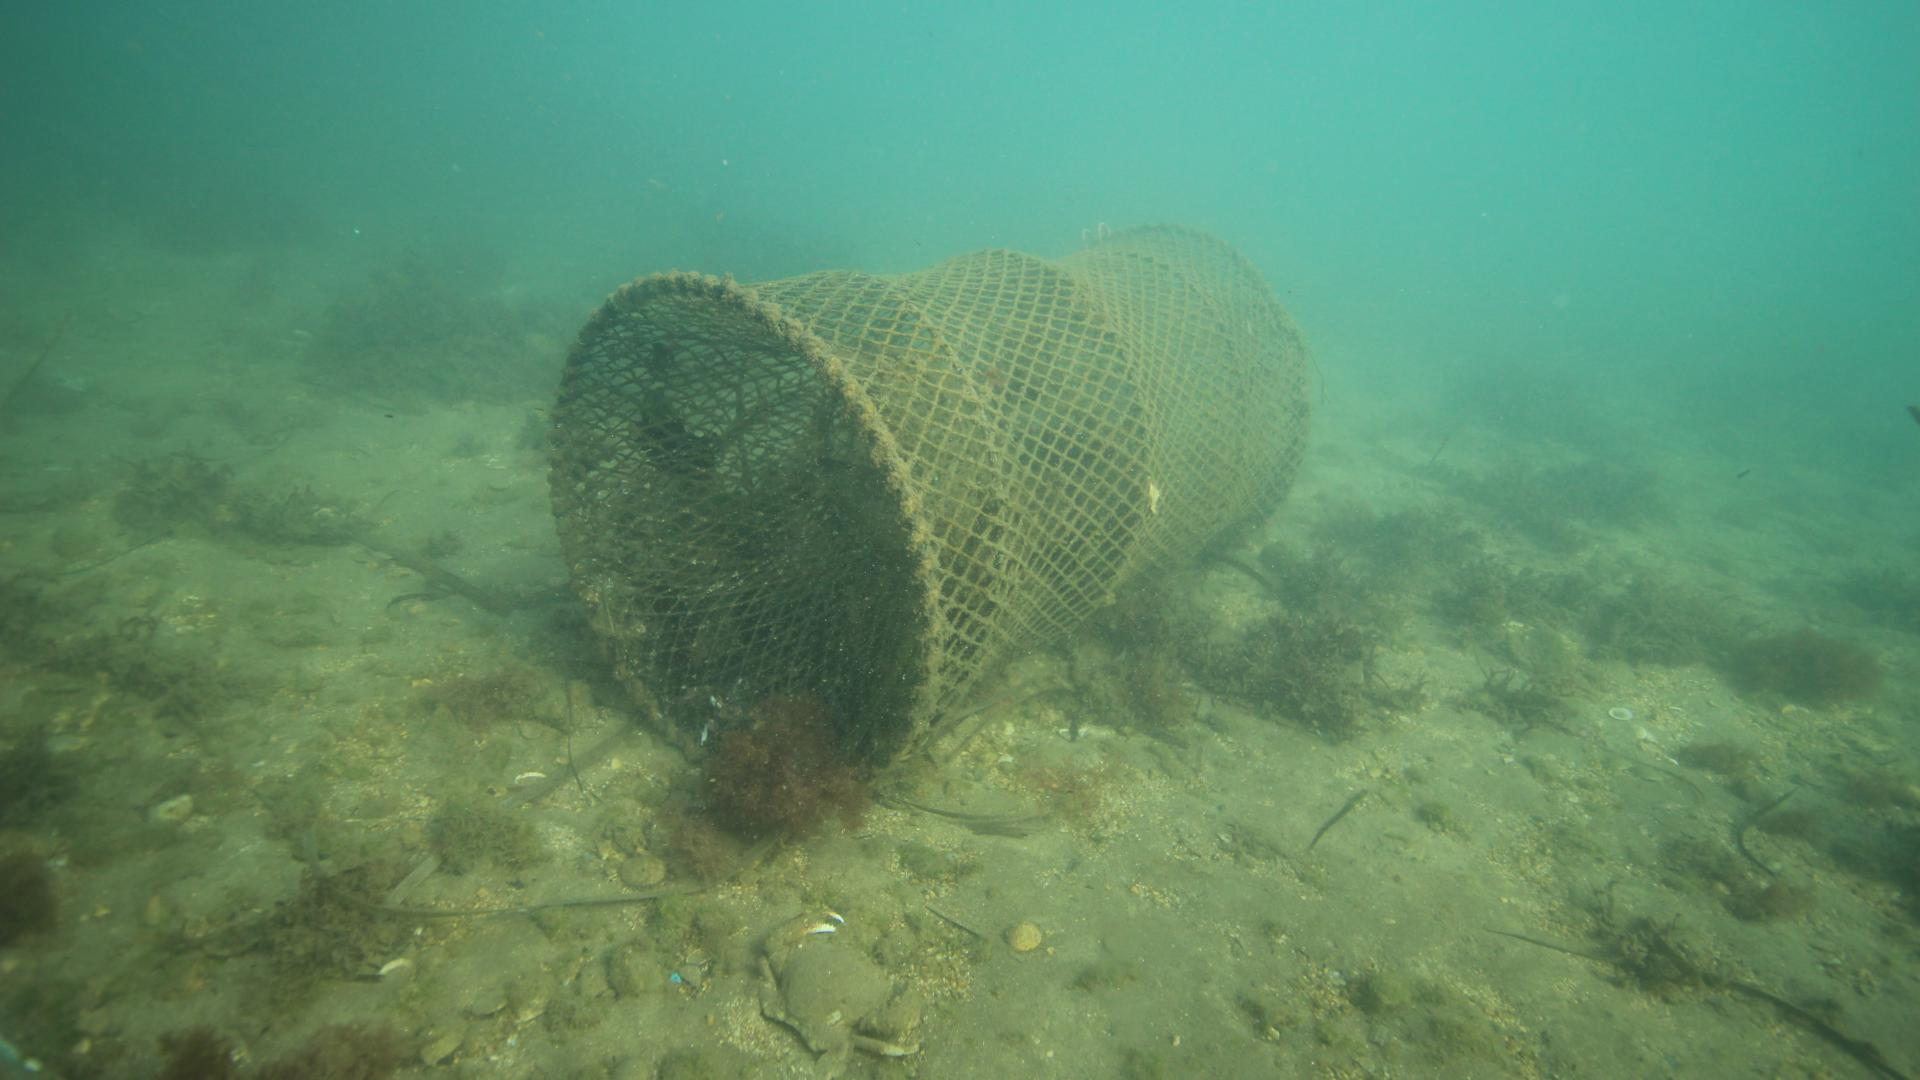spring fish trap: (547, 220, 1309, 791)
